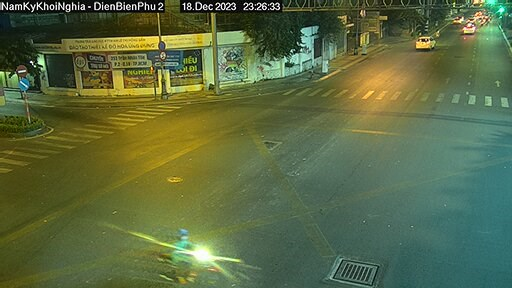car: (412, 32, 439, 52)
